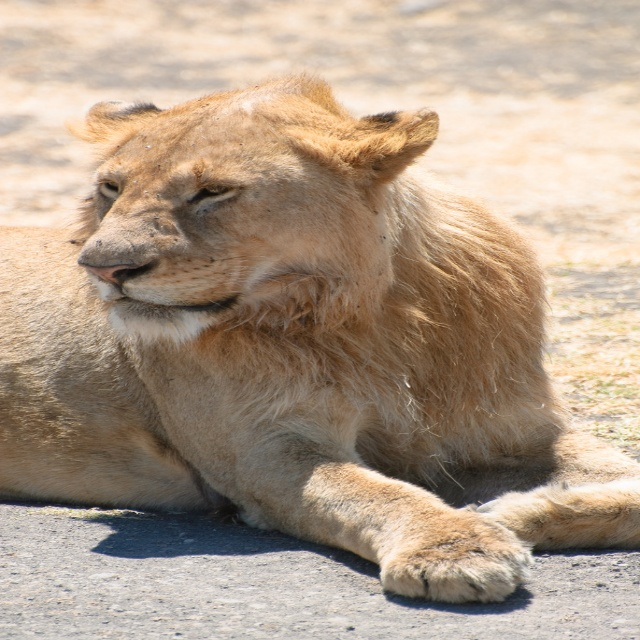Lion: (0, 71, 639, 605)
